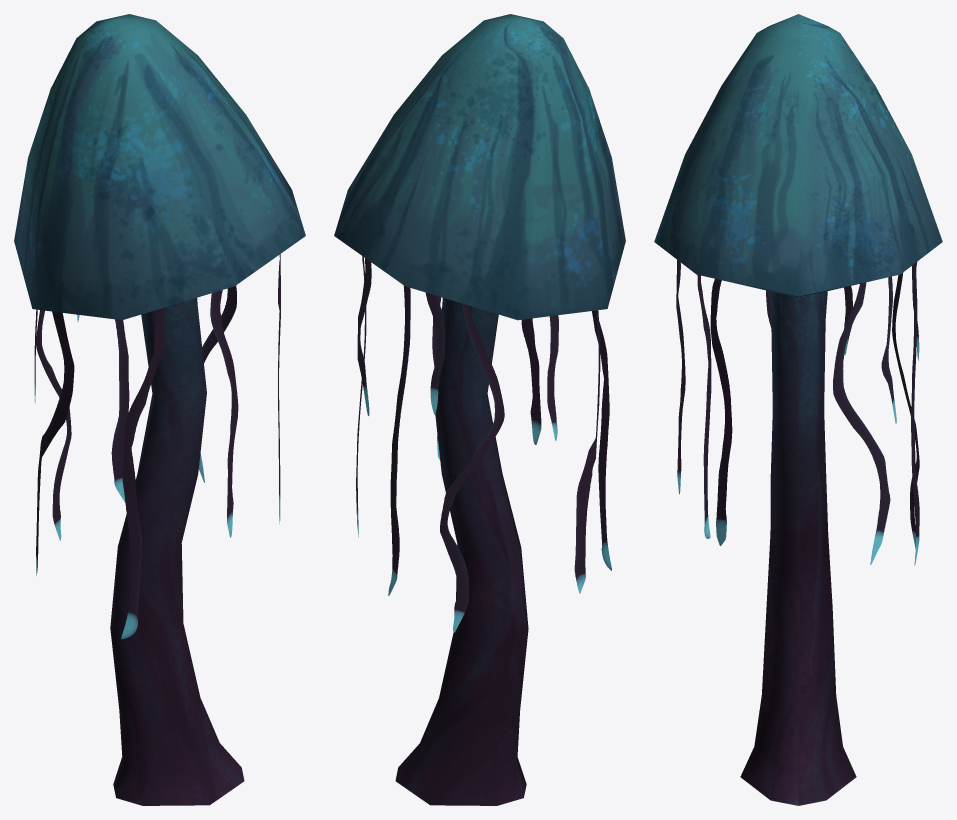
File: shroom1.fbx
3 views of the same model, side by side, from view 1: azimuth 30°, elevation 25°; view 2: azimuth 150°, elevation 25°; view 3: azimuth 270°, elevation 25° (orthographic). The views are drawn at different scales.
Visible parts, largest first — view 1: shroom2; view 2: shroom2; view 3: shroom2.
Part boxes in pixels (<box>): shroom2: <box>14,14,305,805</box>; shroom2: <box>334,14,625,805</box>; shroom2: <box>654,14,942,805</box>.
Bounding box in the file's own units: 9.96 × 28.52 × 10.17.
